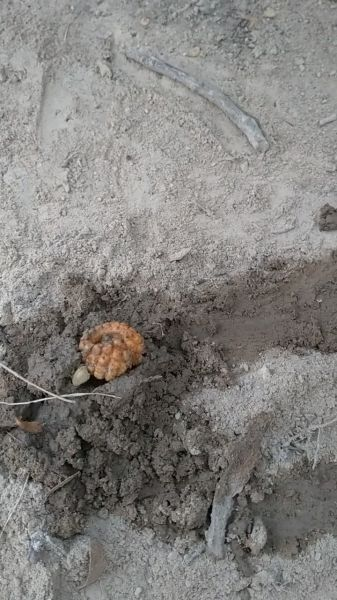eggs: (76, 320, 148, 383)
